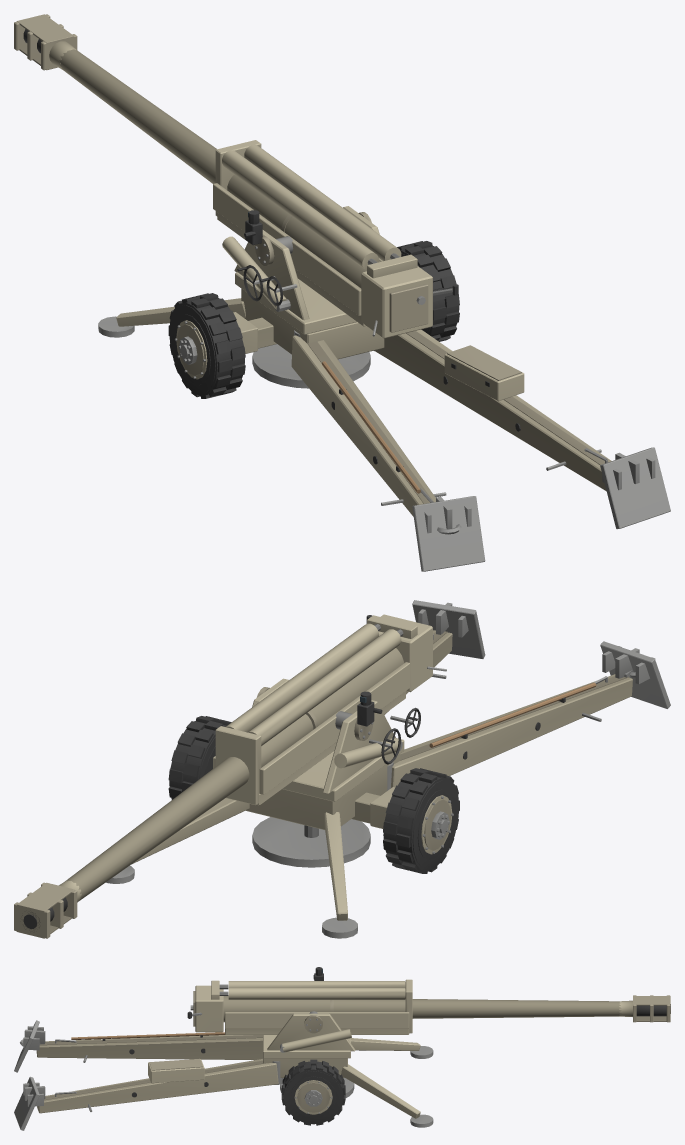
Rendered from usa_tow_m777.glb.
The picture shows the model from 3 angles, top to bottom: view 1: azimuth 30°, elevation 25°; view 2: azimuth 150°, elevation 25°; view 3: azimuth 270°, elevation 25°; orthographic projection. The views are drawn at different scales.
Visible parts, largest first — view 1: body, barrel, turret, wheel_0, wheel_1; view 2: barrel, body, wheel_0, turret, wheel_1; view 3: body, barrel, turret, wheel_1.
Boxes of the visible parts, left/top/right/bottom form: body: left=98, top=289, right=670, bottom=571; barrel: left=14, top=14, right=458, bottom=338; turret: left=222, top=206, right=379, bottom=334; wheel_0: left=168, top=293, right=245, bottom=398; wheel_1: left=397, top=241, right=459, bottom=341; barrel: left=14, top=614, right=446, bottom=938; body: left=106, top=600, right=670, bottom=938; wheel_0: left=383, top=768, right=459, bottom=873; turret: left=252, top=678, right=420, bottom=801; wheel_1: left=168, top=716, right=231, bottom=799; body: left=14, top=1020, right=433, bottom=1130; barrel: left=187, top=979, right=670, bottom=1034; turret: left=263, top=967, right=355, bottom=1058; wheel_1: left=281, top=1059, right=345, bottom=1125.
Bounding box in the file's own units: 2.8 × 1.77 × 9.71.
